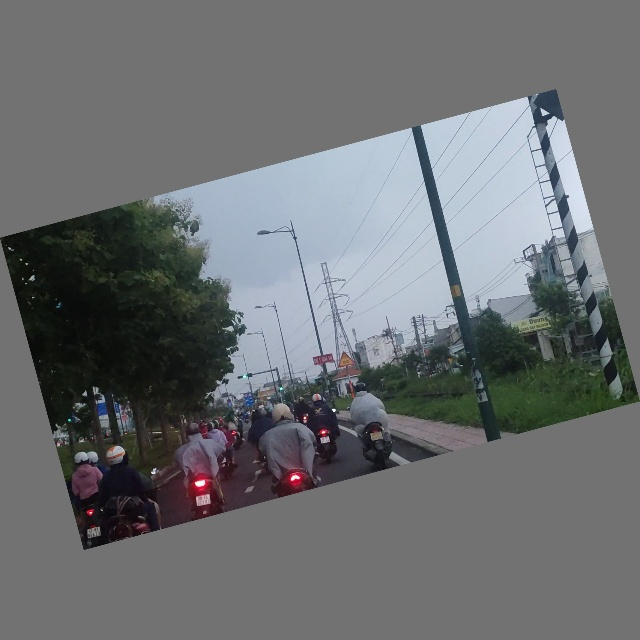W.210: (334, 349, 356, 369)
